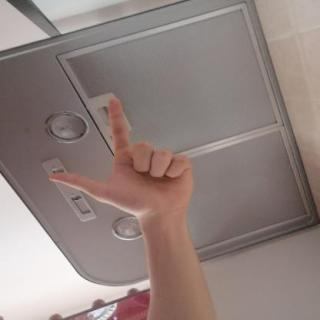LAAM: (38, 93, 203, 224)
